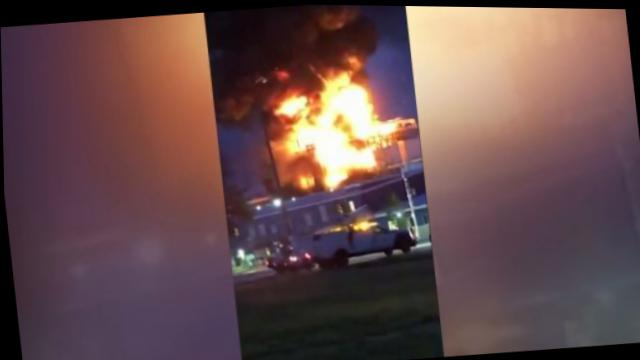fire: (282, 117, 353, 153), (318, 146, 380, 185), (317, 71, 352, 116), (349, 85, 369, 134), (276, 95, 308, 119), (370, 119, 395, 137)
smoke: (206, 2, 387, 81), (209, 76, 261, 119), (262, 122, 287, 188), (266, 70, 323, 95)
